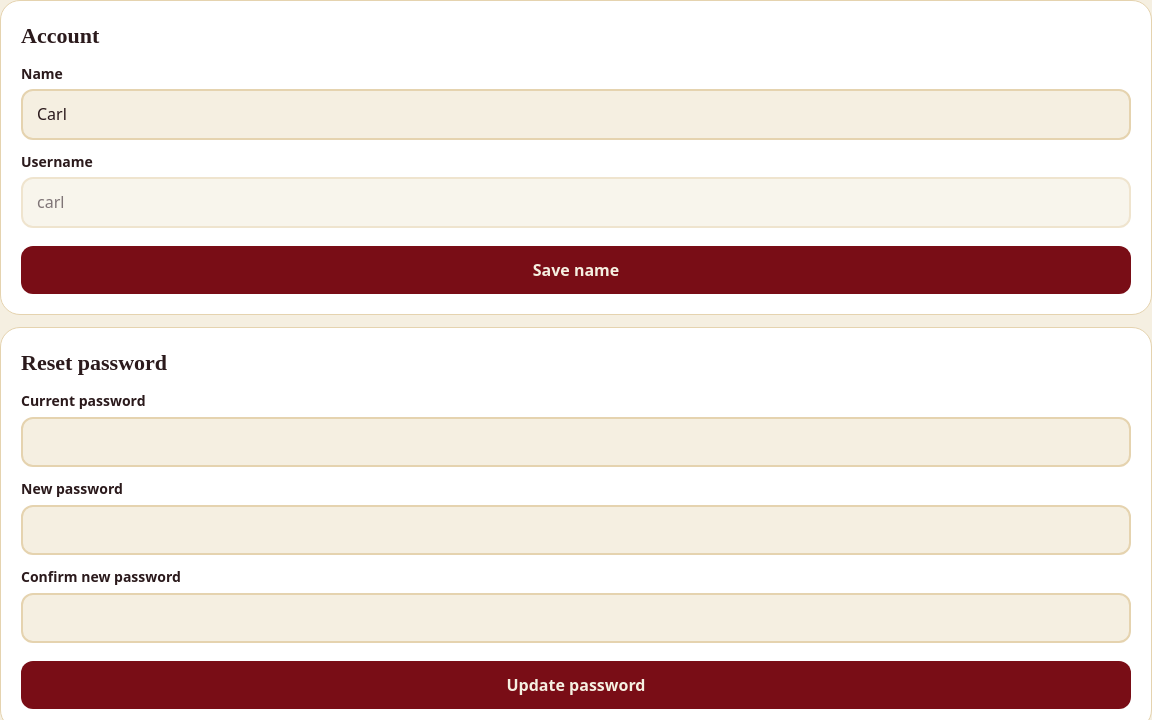
Scenario: a successful password change confirms with a toast
Type "secret123" into the password field labelled "Current password".
click(576, 442); type("secret123")  # box [21, 416, 1131, 467]
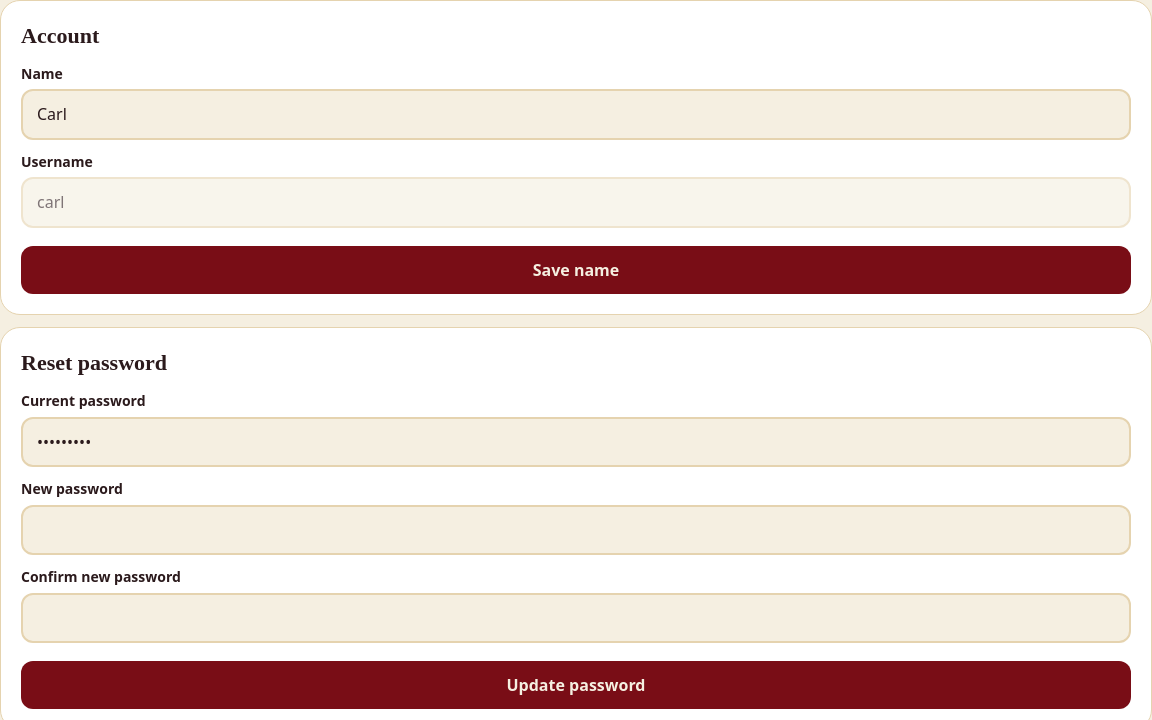
Type "brandnew456" into the password field labelled "New password".
click(576, 530); type("brandnew456")  # box [21, 504, 1131, 555]
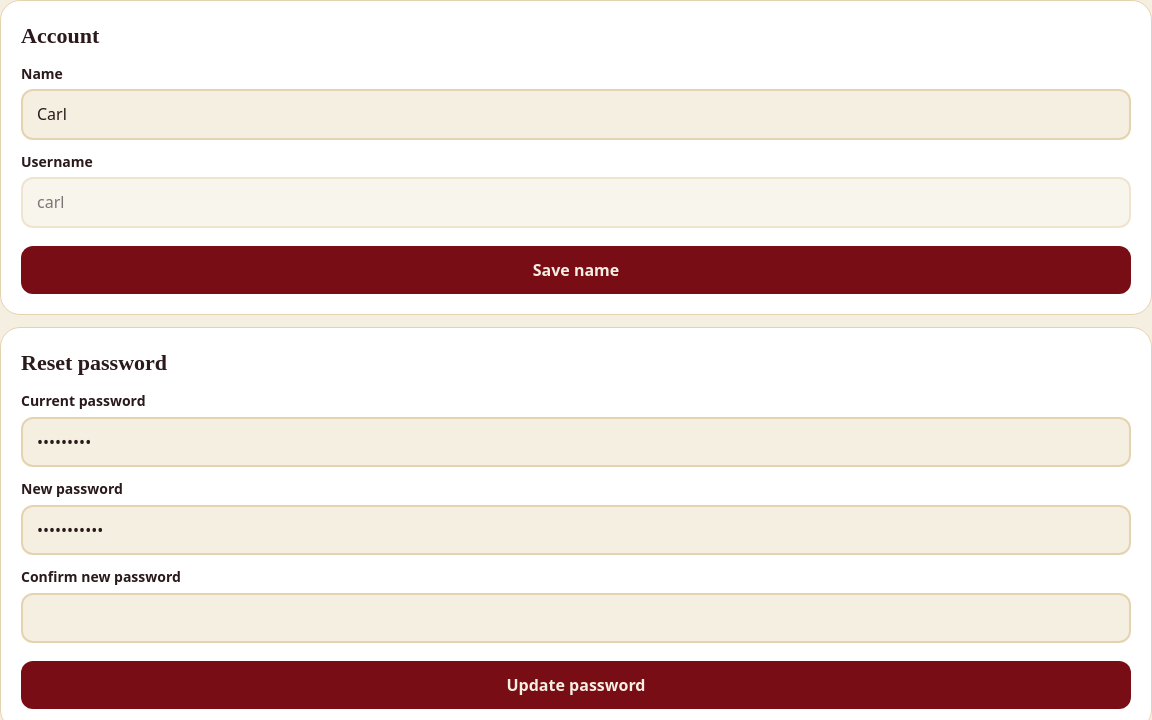
Type "brandnew456" into the password field labelled "Confirm new password".
click(576, 618); type("brandnew456")  # box [21, 592, 1131, 643]
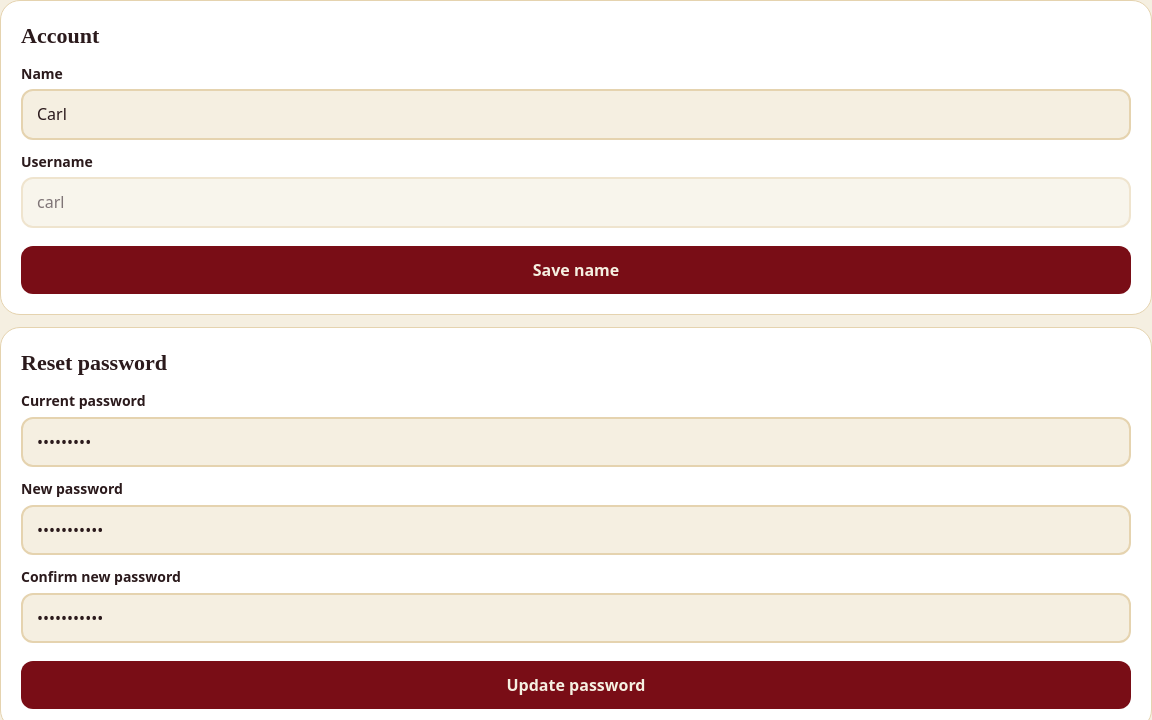
Click the button "Update password".
click(576, 685)  # box [21, 661, 1131, 709]
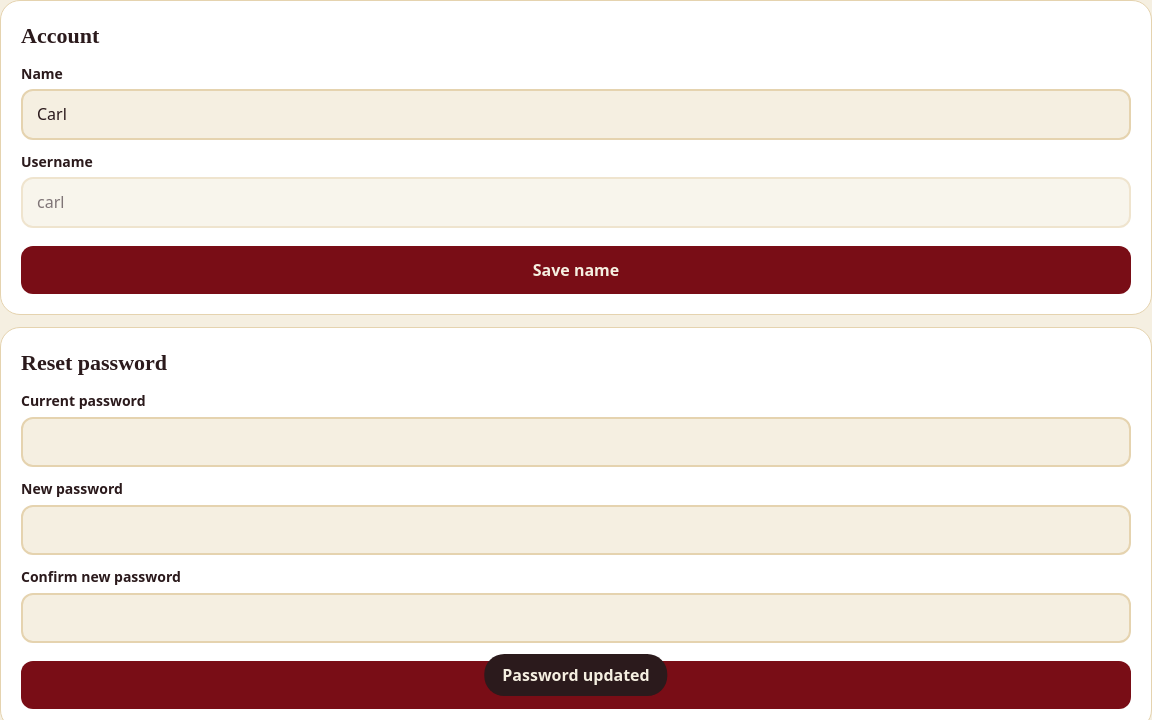
Result: the text "Password updated" is shown at [484, 654, 668, 696]
